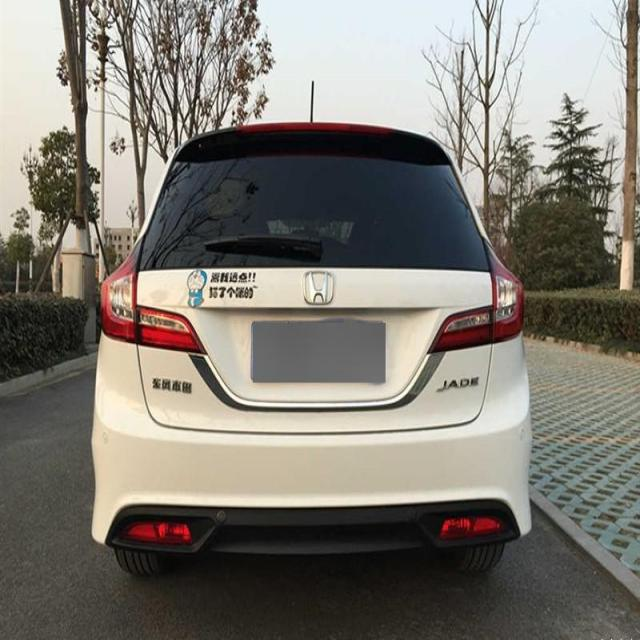back_glass: (138, 132, 494, 272)
back_left_side_light: (99, 254, 208, 353)
back_right_side_light: (426, 254, 524, 359)
rear_bumper: (92, 332, 534, 552)
